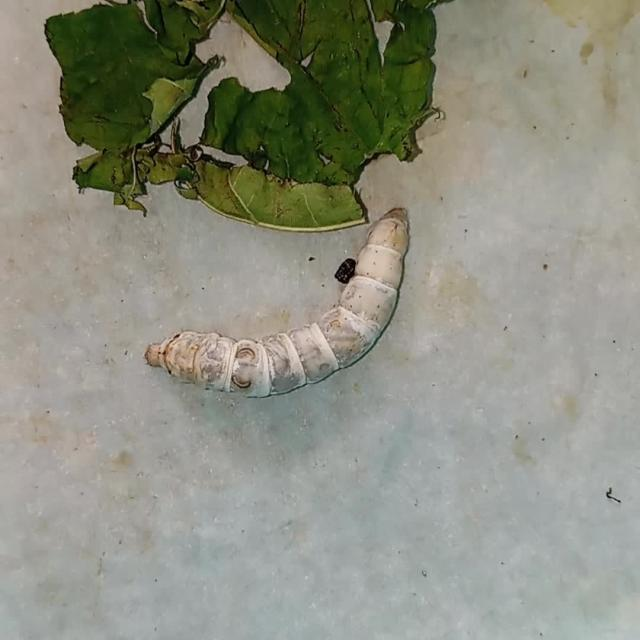Grasserie: (133, 202, 423, 408)
